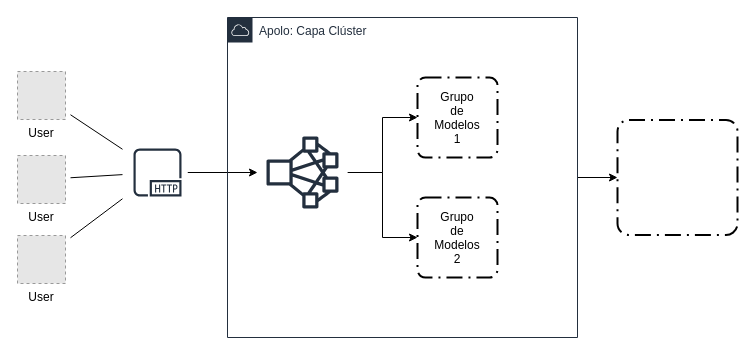
Image size: 756x355. Some labels were removed from this diagram. Grey dashed boxes stand in for pictures. Here are the shapes that lost their labels. From the top down, the centre of each, then its label:
the point at 157,172: Peticiones red
the point at 302,172: Cluster
the point at 677,177: Grupo de Modelo Óptimo Para la Petición X
